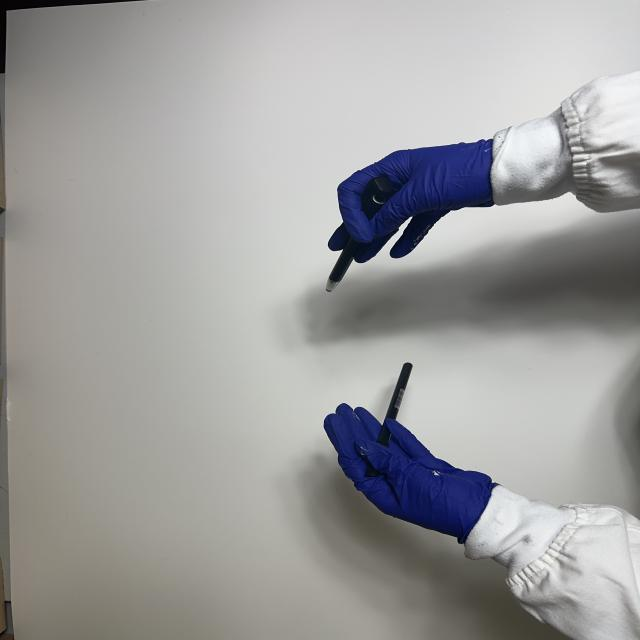gloves_contaminated: (324, 403, 496, 544), (328, 140, 494, 262)
